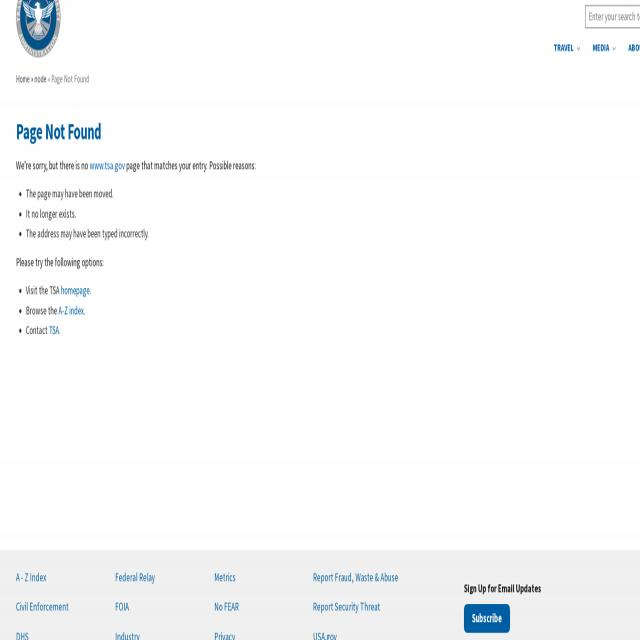button: (16, 0, 60, 58), (464, 604, 509, 633), (548, 31, 586, 64), (586, 31, 622, 64), (621, 30, 640, 64)
field: (585, 6, 640, 28)
